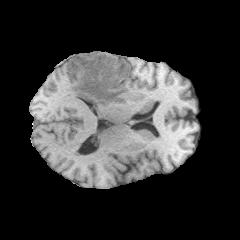glioma: (70, 53, 129, 107)
